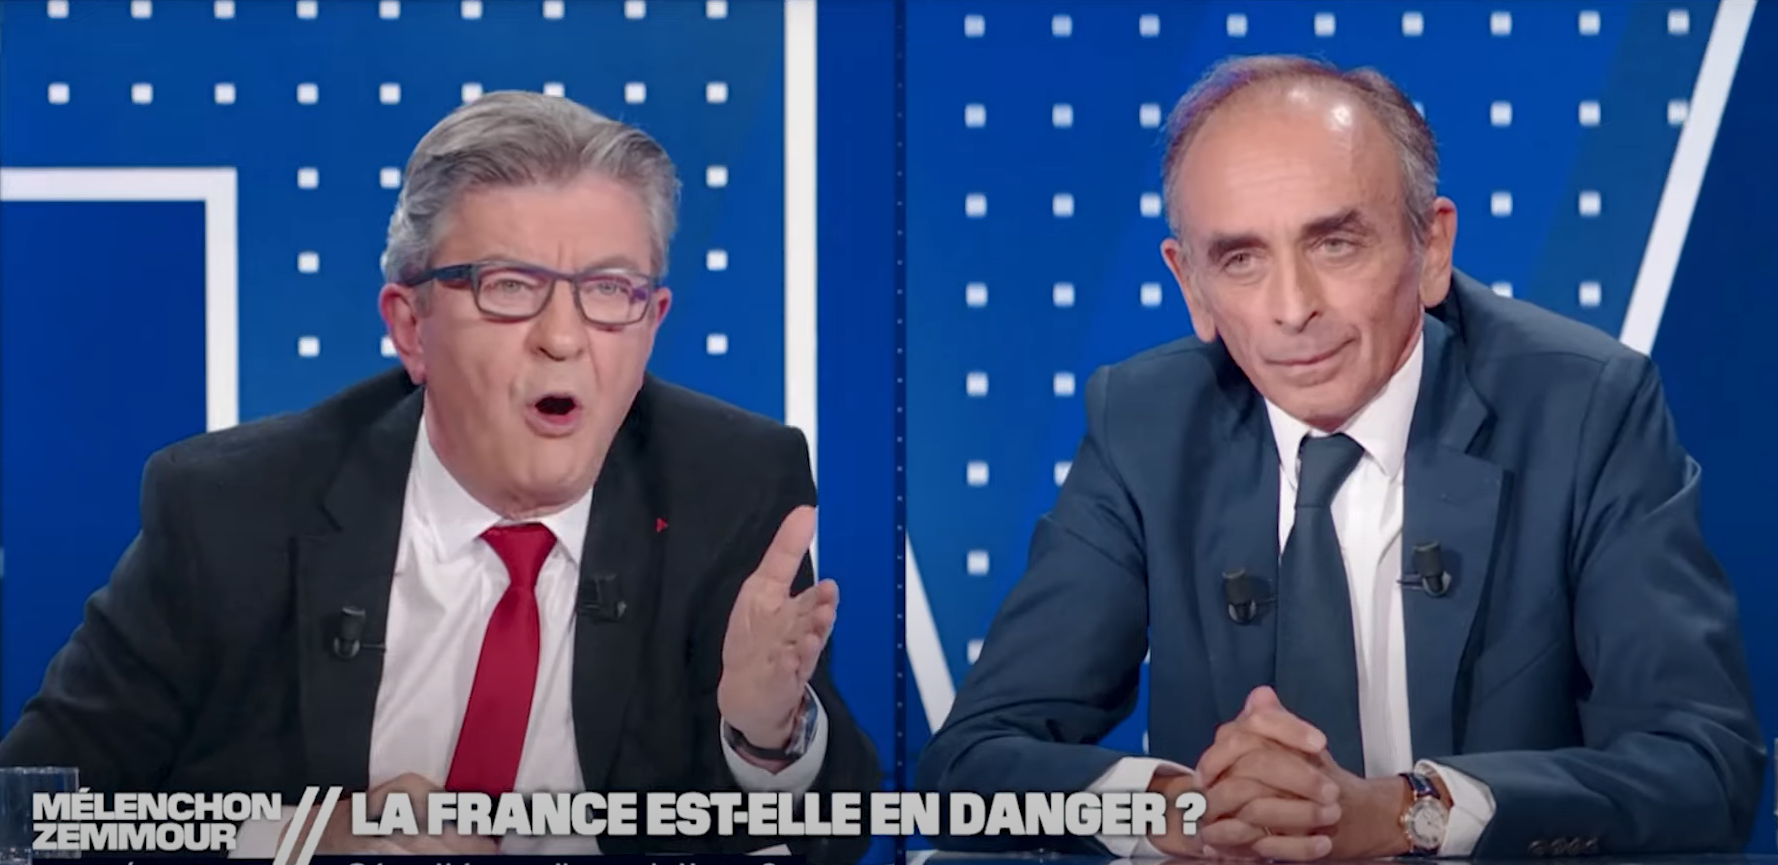without_mask: (440, 213, 622, 438), (1209, 186, 1391, 385)
